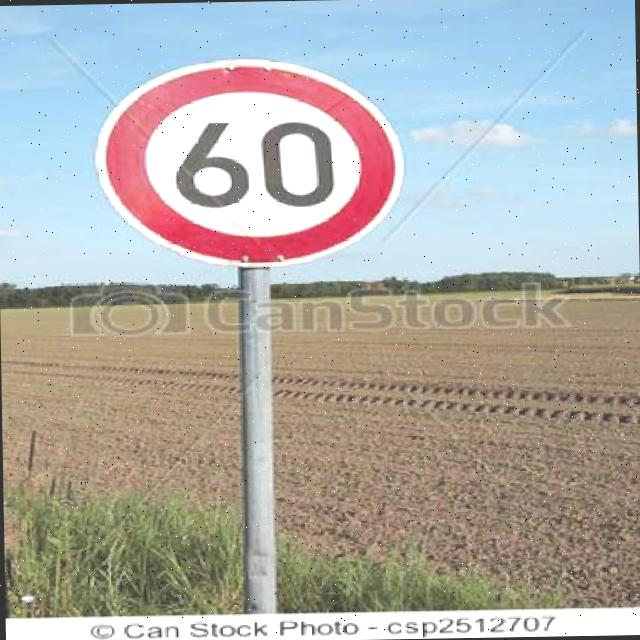Ograniczenie predkosci do 60: (91, 60, 416, 274)
